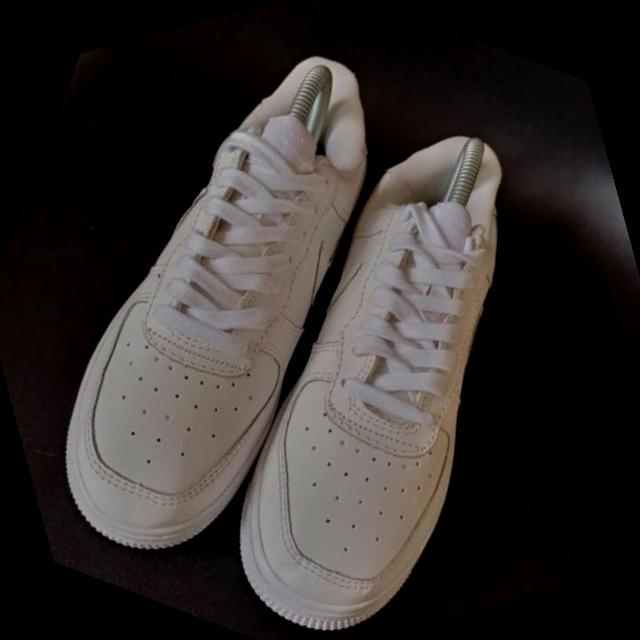nike_fake_airforce: (0, 0, 503, 623), (98, 66, 640, 640)
